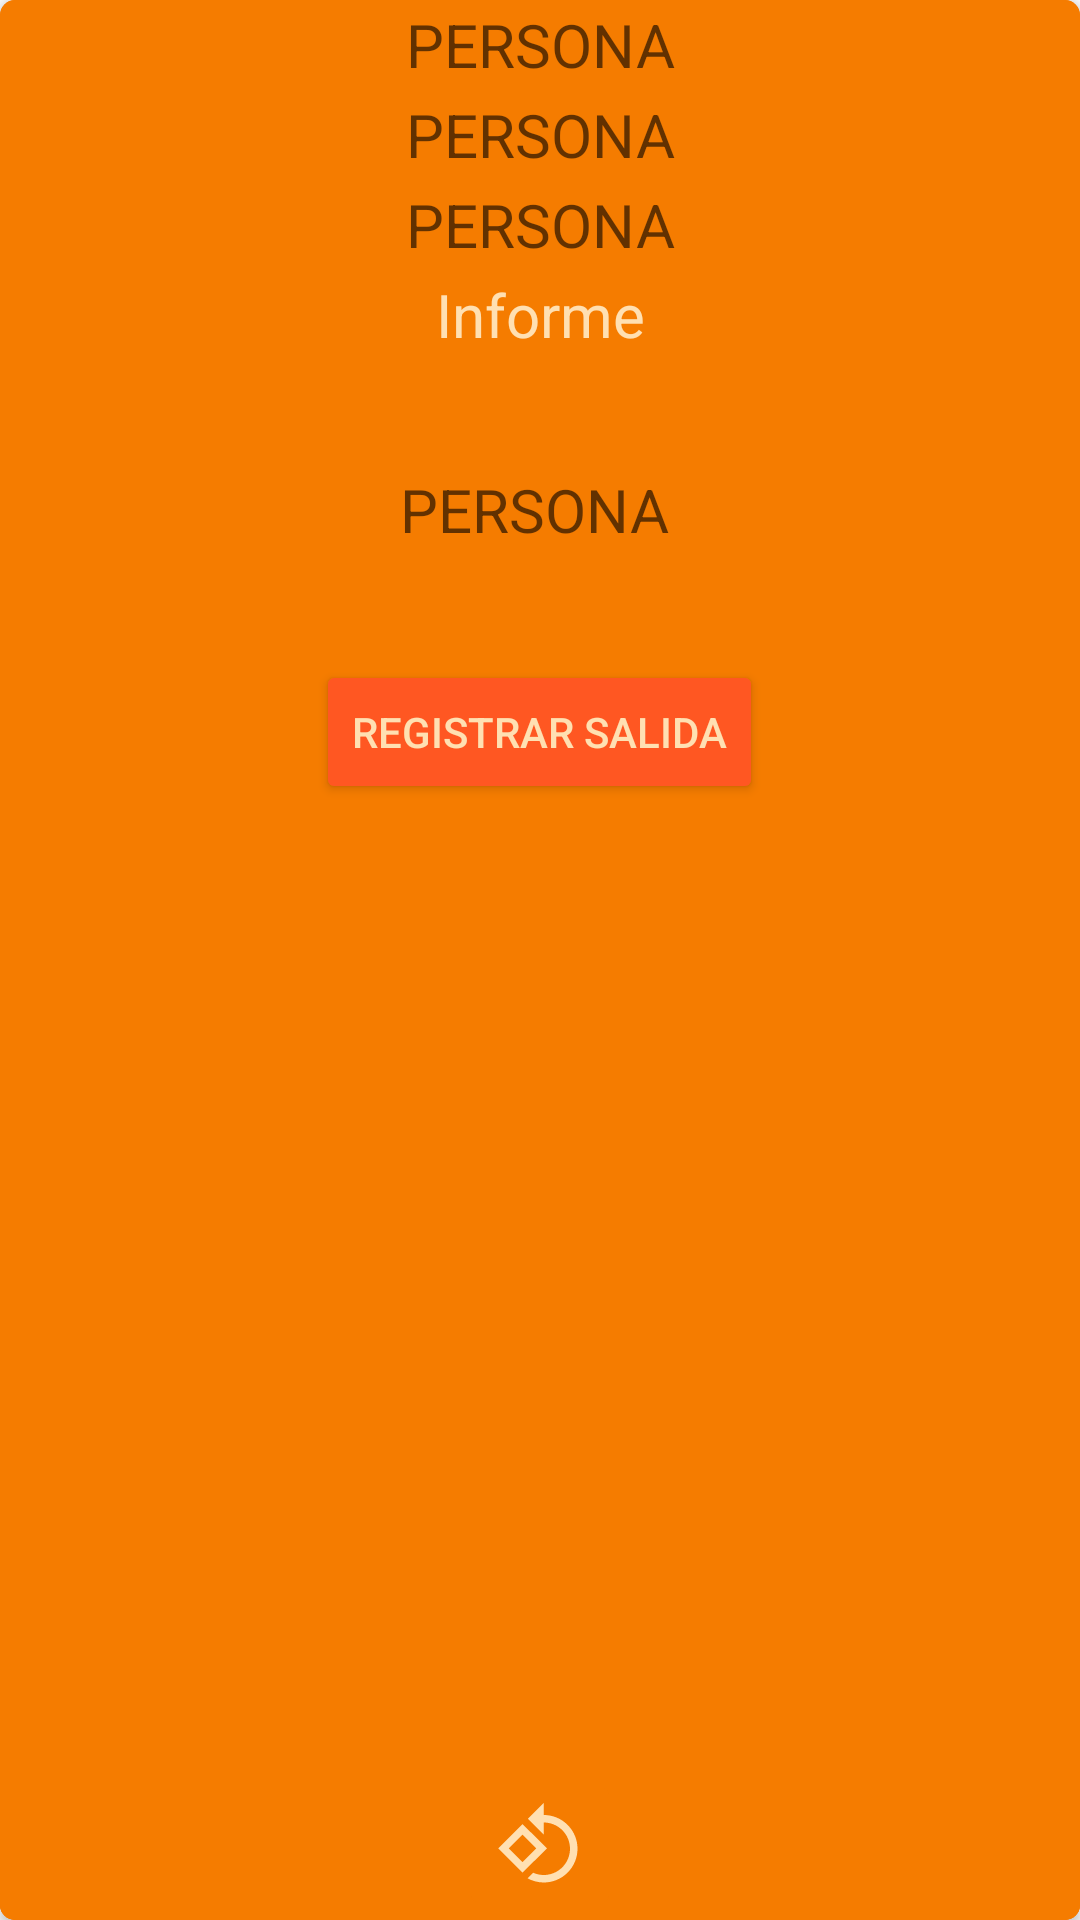

Icons on this 1080x1920 Android screen, each with its box as {"x1": x1, "y1": y1, "x2": x2, "y2": y2}:
rotar imagendp: {"x1": 498, "y1": 1803, "x2": 578, "y2": 1883}
